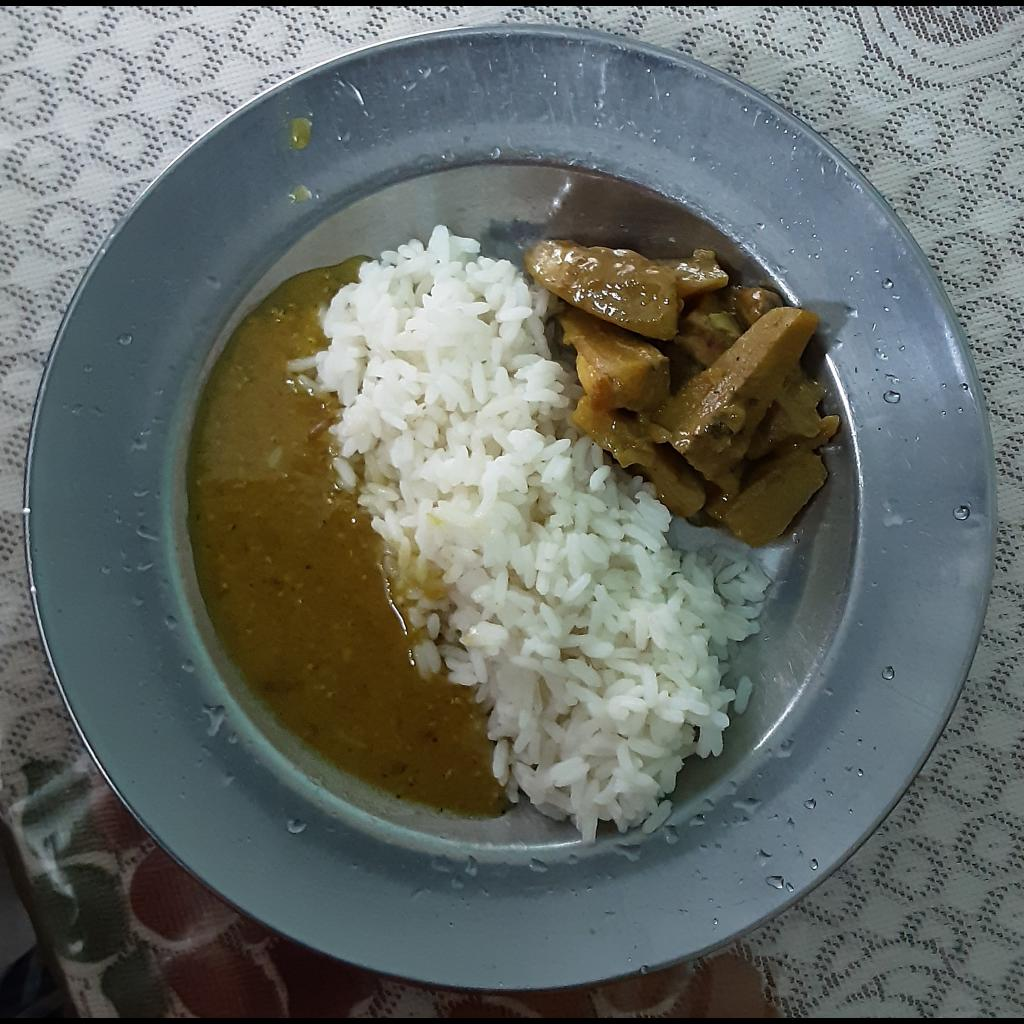daal: (182, 247, 522, 818)
kochu: (530, 234, 839, 556)
rice: (286, 215, 778, 840)
